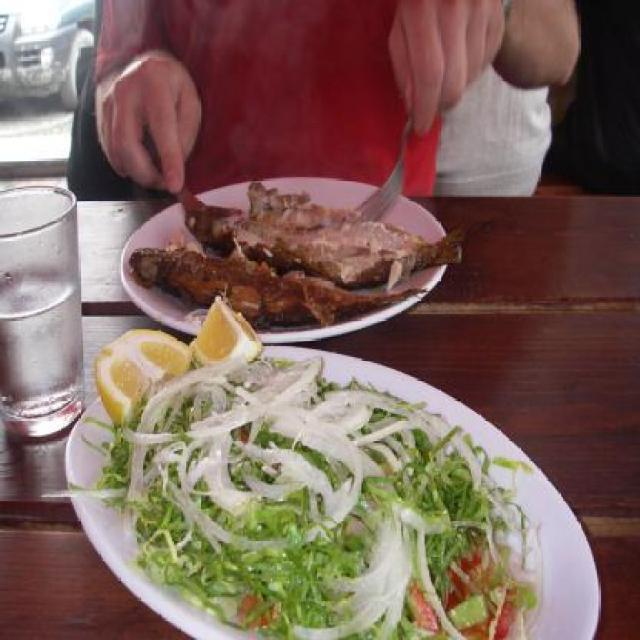Salad: (65, 282, 544, 636)
